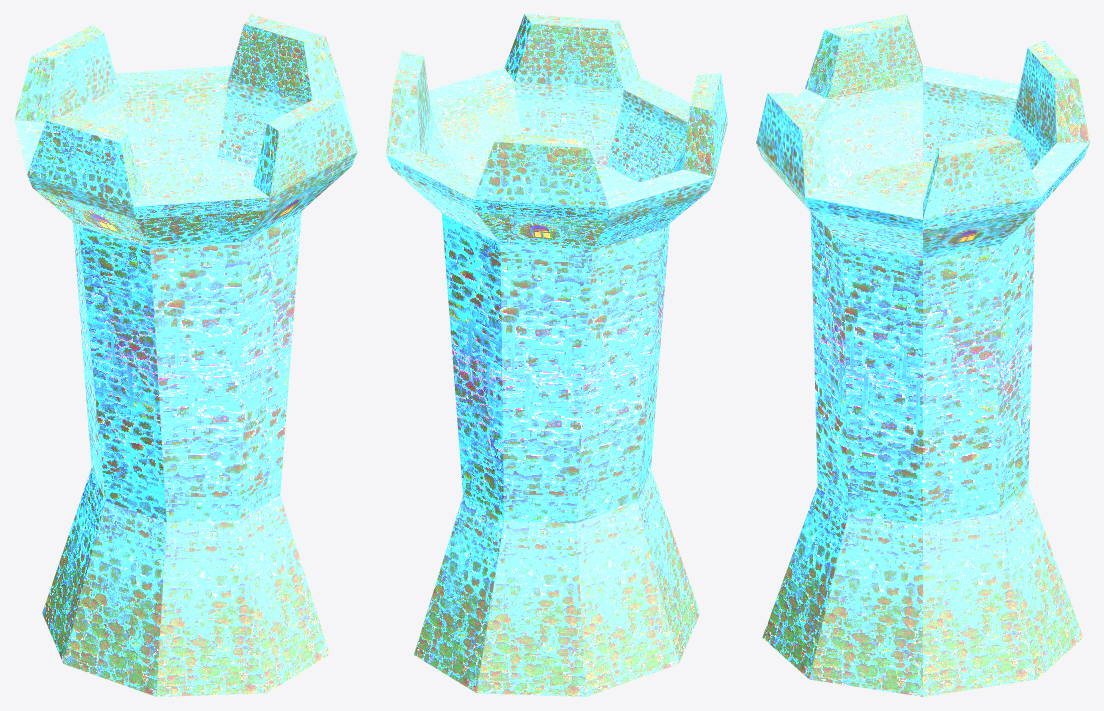
File: castle_tower.glb
3 views of the same model, side by side, from view 1: azimuth 30°, elevation 25°; view 2: azimuth 150°, elevation 25°; view 3: azimuth 270°, elevation 25° (orthographic).
Visible parts, largest first — view 1: castle_tower; view 2: castle_tower; view 3: castle_tower.
Boxes of the visible parts, <box> form: castle_tower: <box>14,14,357,696</box>; castle_tower: <box>386,14,727,696</box>; castle_tower: <box>756,14,1089,696</box>.
Size of the model in its own units: 5.44 by 9.1 by 4.99.
